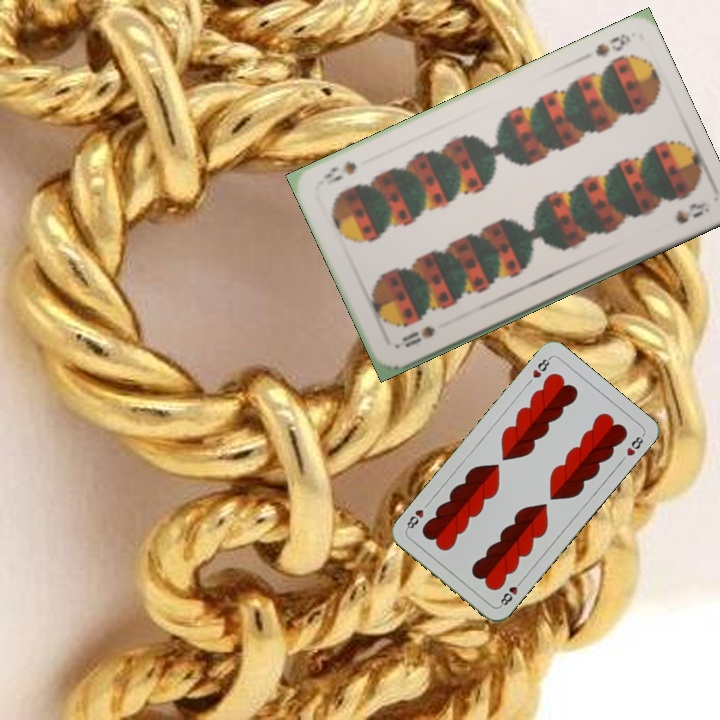H8: (495, 575, 525, 609), (528, 353, 554, 381)
S8: (590, 29, 634, 60), (398, 321, 438, 350)
